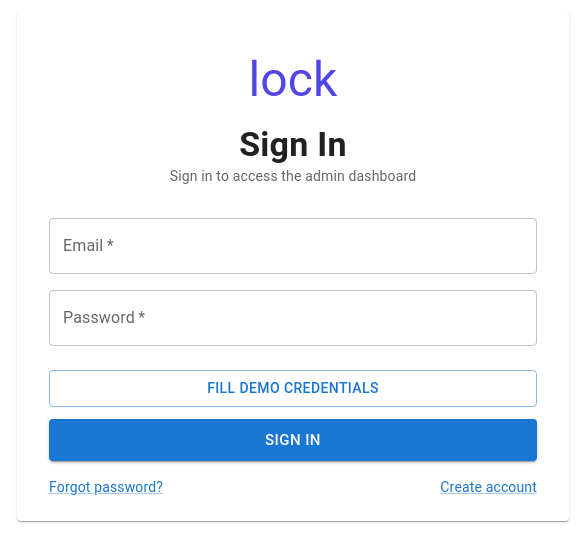
fills configured demo credentials without submitting
Click the button "Fill Demo Credentials".
click(293, 388)  # box [49, 370, 537, 406]
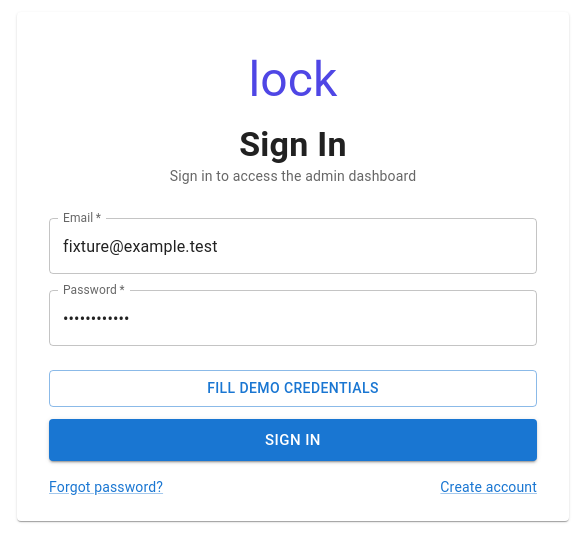
Now the field labelled "Email" holds "fixture@example.test", box [49, 218, 537, 274]
Now the password field named "password" holds "fixture-only", box [49, 290, 537, 346]
